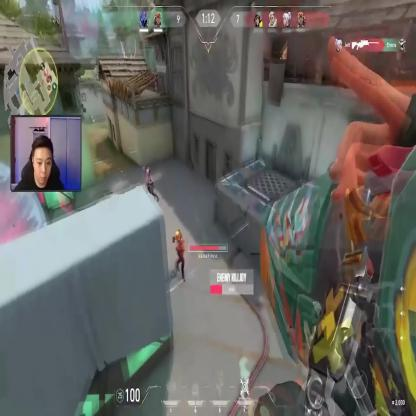enemy: (171, 226, 185, 284), (143, 164, 159, 203)
enemy_head: (176, 230, 180, 242), (146, 168, 150, 176)
